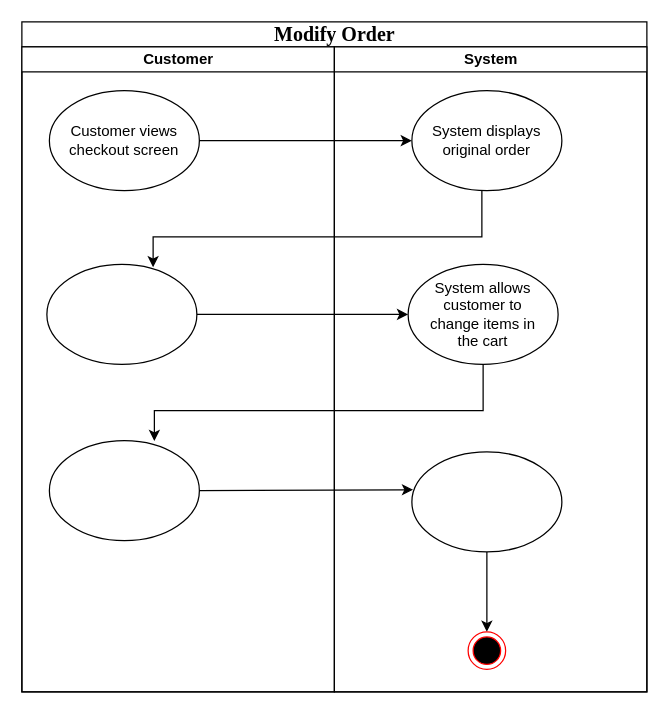
Image size: 669x714. Some labels were removed from this diagram. The shapes that lost their labels are listed below. From the top down, each one's centre as x and y in pixels, then its label:
At (x=121, y=313): "Customer wants to modify the order".
At (x=123, y=490): "Customer adds or removes item in order".
At (x=486, y=501): "System updates the order".
